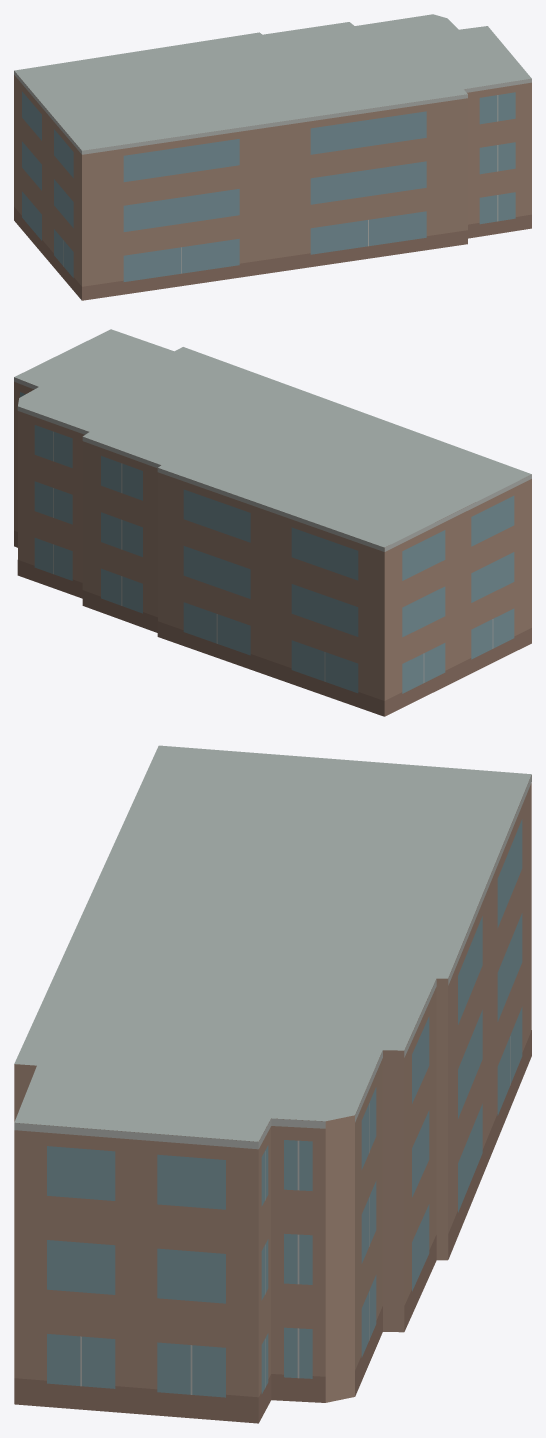
File: survey-upis-32669586.glb
3 renders of one model, top to bottom at view 1: azimuth 30°, elevation 25°; view 2: azimuth 150°, elevation 25°; view 3: azimuth 270°, elevation 25°, orthographic. The views are drawn at different scales.
Visible parts, largest first — view 1: survey-upis-32669586.tmp; view 2: survey-upis-32669586.tmp; view 3: survey-upis-32669586.tmp.
Boxes of the visible parts, <box> form: survey-upis-32669586.tmp: <box>14,14,531,300</box>; survey-upis-32669586.tmp: <box>14,329,531,716</box>; survey-upis-32669586.tmp: <box>14,745,531,1423</box>.
Size of the model in its own units: 27.62 by 9.15 by 15.25.
